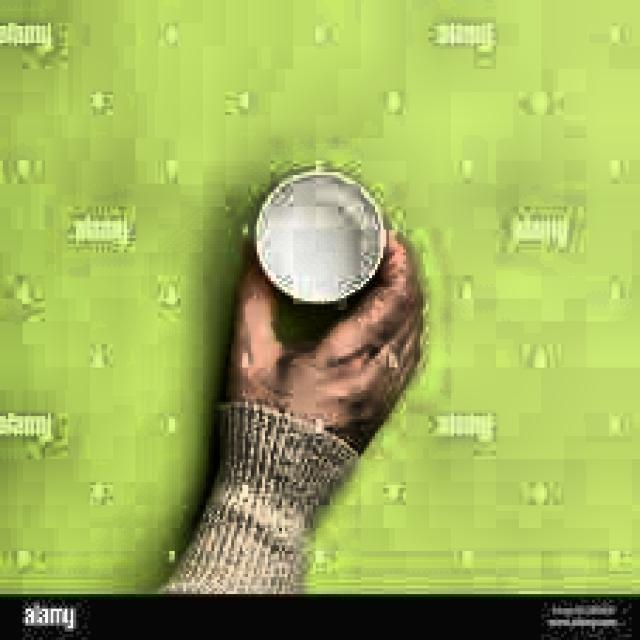Cup: (248, 151, 394, 312)
